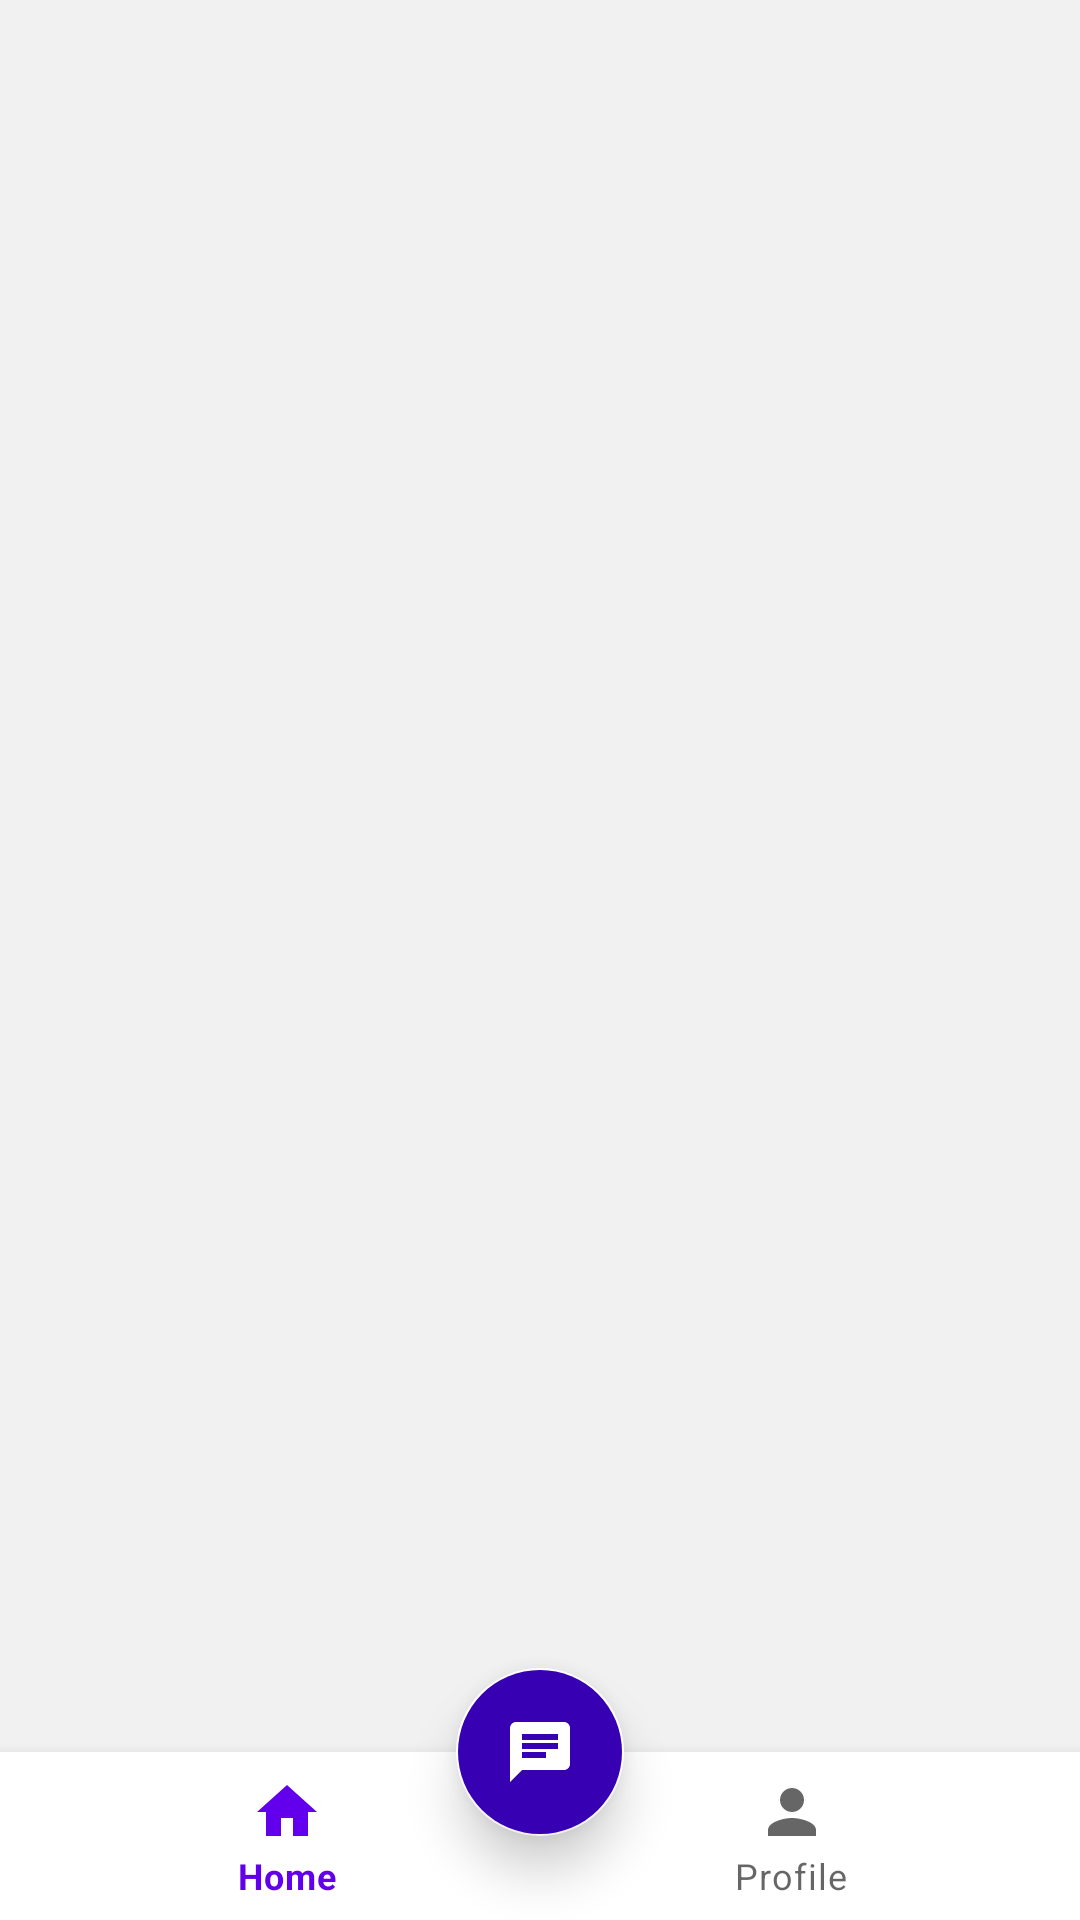

Screen size 1080x1920. Icon name, then its box in pixels as {"x1": x1, "y1": y1, "x2": x2, "y2": y2}:
chat: {"x1": 458, "y1": 1670, "x2": 622, "y2": 1834}
